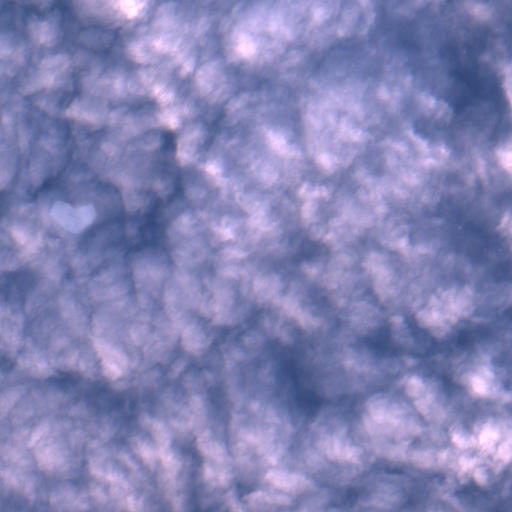Iceberg: (50, 201, 95, 232)
